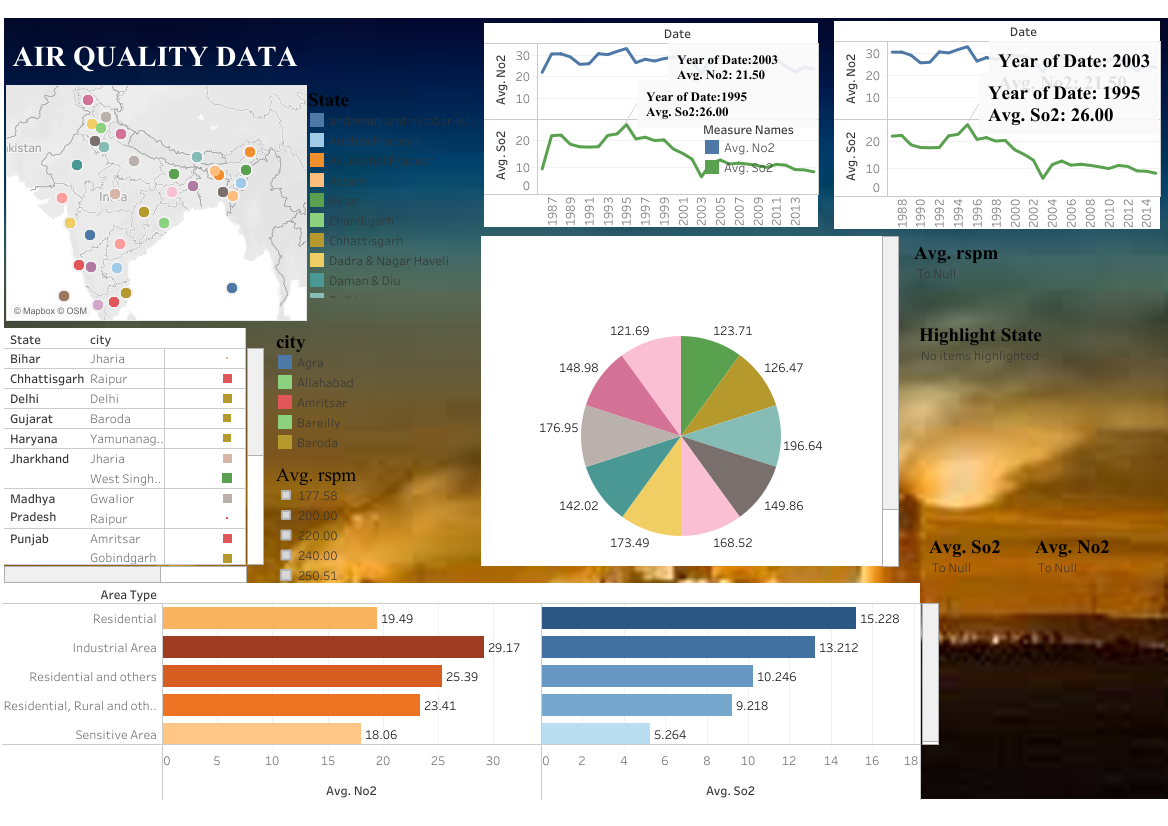

What the dashboard file says about the page in this screenshot:
{"tool":"tableau","page":{"name":"Air quality data dashboard","canvas":[1169,827],"ordinal":0},"visuals":[{"type":"worksheet","title":"3","mark":"Automatic","rows":["no2","so2"],"cols":["date"],"box":[834,21,327,209]},{"type":"worksheet","title":"2","mark":"Automatic","rows":["no2","so2"],"cols":["date"],"box":[484,23,335,205]},{"type":"text","box":[10,25,294,62]},{"type":"worksheet","title":"1","mark":"Automatic","box":[6,85,301,236]},{"type":"legend","title":"1","param":"[federated.12zb7un174lf200zke9t30y4p6y1].[none:state:nk]","box":[307,87,172,211]},{"type":"legend","title":"3","param":"[federated.12zb7un174lf200zke9t30y4p6y1].[:Measure Names]","box":[702,118,140,58]},{"type":"worksheet","title":"6","mark":"Pie","box":[481,236,629,330]},{"type":"filter","title":"6","param":"[federated.12zb7un174lf200zke9t30y4p6y1].[avg:rspm:qk]","box":[914,241,160,61]},{"type":"highlighter","title":"6","param":"[federated.12zb7un174lf200zke9t30y4p6y1].[none:state:nk]","box":[919,323,160,195]},{"type":"worksheet","title":"4","mark":"Automatic","rows":["state","location"],"box":[4,328,260,255]},{"type":"legend","title":"4","param":"[federated.12zb7un174lf200zke9t30y4p6y1].[none:location:nk]","box":[275,329,140,121]},{"type":"legend","title":"4","param":"[federated.12zb7un174lf200zke9t30y4p6y1].[avg:rspm:qk]","box":[275,462,140,123]},{"type":"filter","title":"5","param":"[federated.12zb7un174lf200zke9t30y4p6y1].[avg:so2:qk]","box":[929,535,99,61]},{"type":"filter","title":"5","param":"[federated.12zb7un174lf200zke9t30y4p6y1].[avg:no2:qk]","box":[1035,535,90,61]},{"type":"worksheet","title":"5","mark":"Automatic","rows":["type"],"cols":["no2","so2"],"box":[2,583,938,217]}]}

Visuals, with their boxes in screenshot pixels (x1, y1, x2, y2), scaled from the page's 1169x827 canvas onto the 1168x826 screenshot:
"3" worksheet: box(833, 21, 1160, 230)
"2" worksheet: box(484, 23, 818, 228)
text: box(10, 25, 304, 87)
"1" worksheet: box(6, 85, 307, 321)
"1" legend: box(307, 87, 479, 298)
"3" legend: box(701, 118, 841, 176)
"6" worksheet (Pie marks): box(481, 236, 1109, 565)
"6" filter: box(913, 241, 1073, 302)
"6" highlighter: box(918, 323, 1078, 517)
"4" worksheet: box(4, 328, 264, 582)
"4" legend: box(275, 329, 415, 449)
"4" legend: box(275, 461, 415, 584)
"5" filter: box(928, 534, 1027, 595)
"5" filter: box(1034, 534, 1124, 595)
"5" worksheet: box(2, 582, 939, 799)
